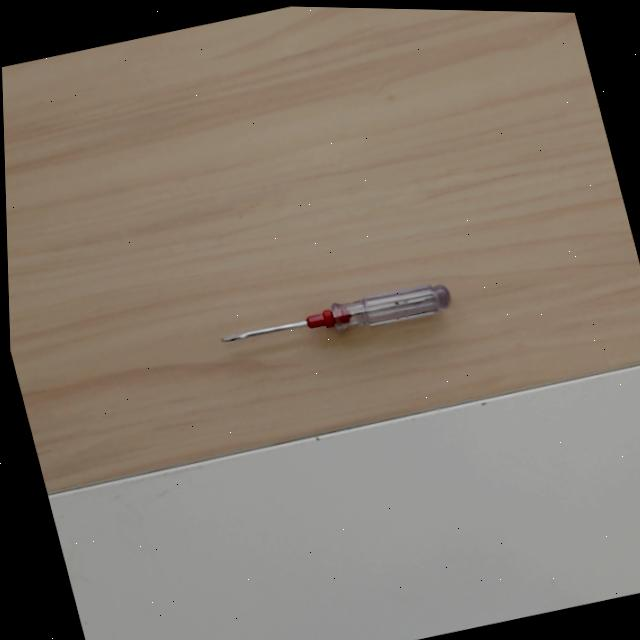Obeng-Kecil: (219, 280, 451, 353)
